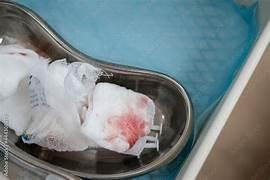cotton: (0, 44, 157, 155), (0, 45, 99, 150), (24, 60, 98, 150), (82, 83, 154, 152), (23, 76, 88, 150), (31, 59, 100, 123), (0, 44, 48, 134), (31, 59, 100, 115), (31, 60, 79, 124), (23, 106, 88, 150), (0, 44, 47, 99), (64, 62, 101, 118), (0, 79, 30, 135), (121, 134, 158, 156), (47, 59, 67, 84), (234, 0, 257, 5)
